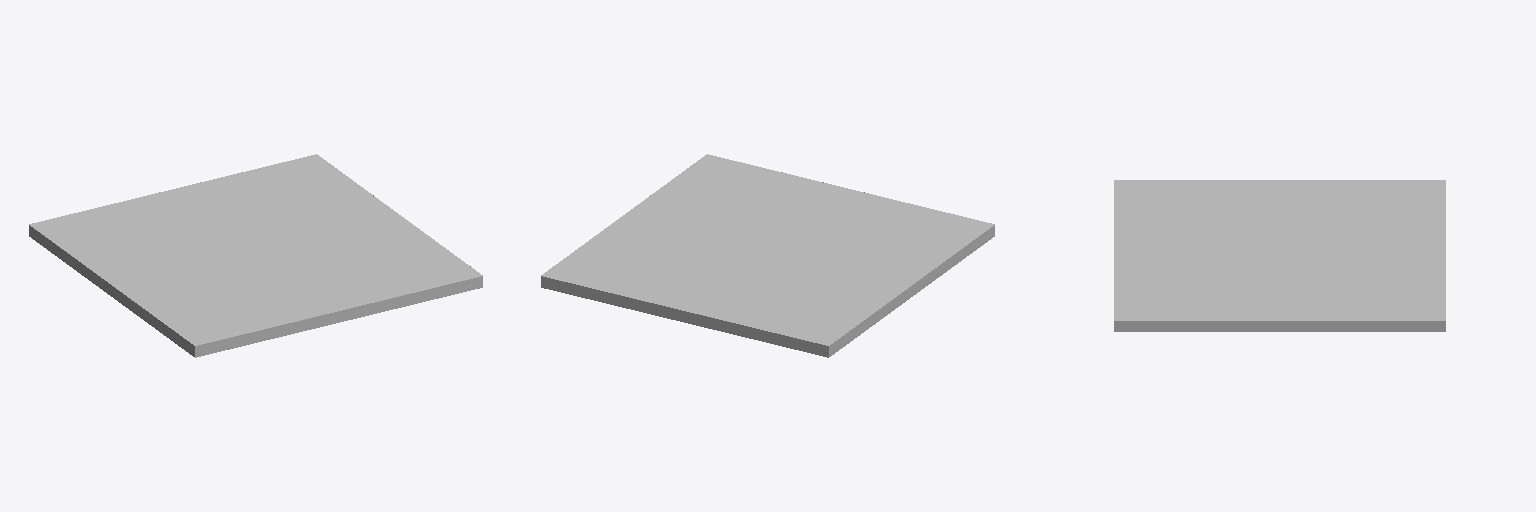
Rendered from drawerWalls.obj.
3 views of the same model, side by side, from view 1: azimuth 30°, elevation 25°; view 2: azimuth 150°, elevation 25°; view 3: azimuth 270°, elevation 25° (orthographic).
Parts seen in each view (by area): view 1: drawerWalls; view 2: drawerWalls; view 3: drawerWalls.
Boxes of the visible parts, x1=… form: drawerWalls: x1=29, y1=154, x2=482, y2=357; drawerWalls: x1=541, y1=154, x2=994, y2=357; drawerWalls: x1=1114, y1=180, x2=1445, y2=331.
Bounding box in the file's own units: 26 × 1 × 26.